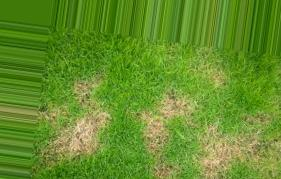patch: (195, 127, 238, 170), (68, 118, 108, 161), (143, 98, 163, 153), (167, 90, 197, 123), (206, 68, 230, 93), (72, 80, 97, 101)
